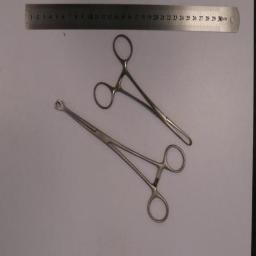Allis Tissue Forceps: (93, 32, 193, 148)
